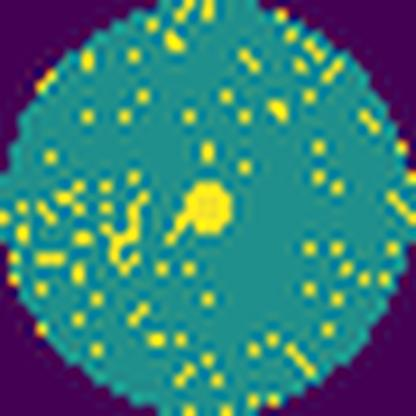Center: (164, 174, 238, 257)
